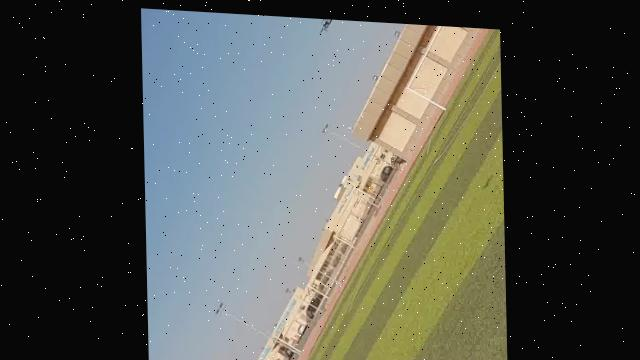drone: (313, 15, 337, 35)
